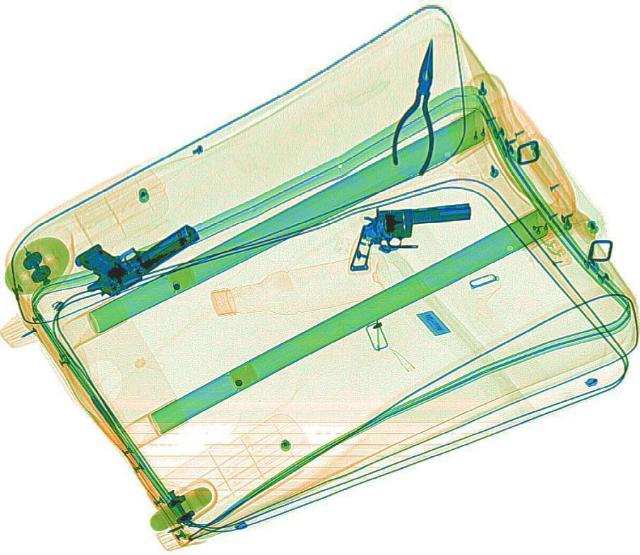Gun: (61, 196, 206, 305), (346, 202, 472, 270)
Pliers: (386, 36, 454, 174)
